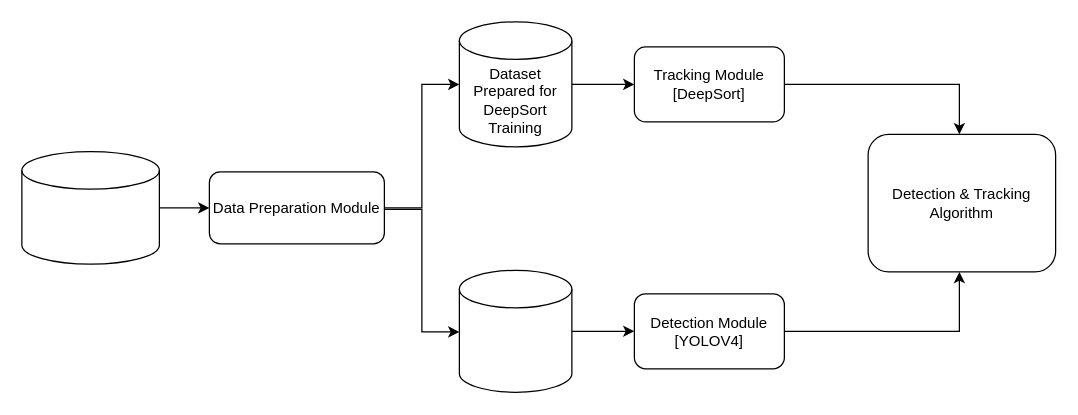
The diagram is 1078 pixels wide and 415 high, and some of its shapes have lost their labels. The shapes that lost their labels are listed below. From the top down, each one's centre as x and y in pixels, then its label:
At (90,207): "DETRAC Dataset".
At (515,330): "Dataset Prepared for YOLO Training".
